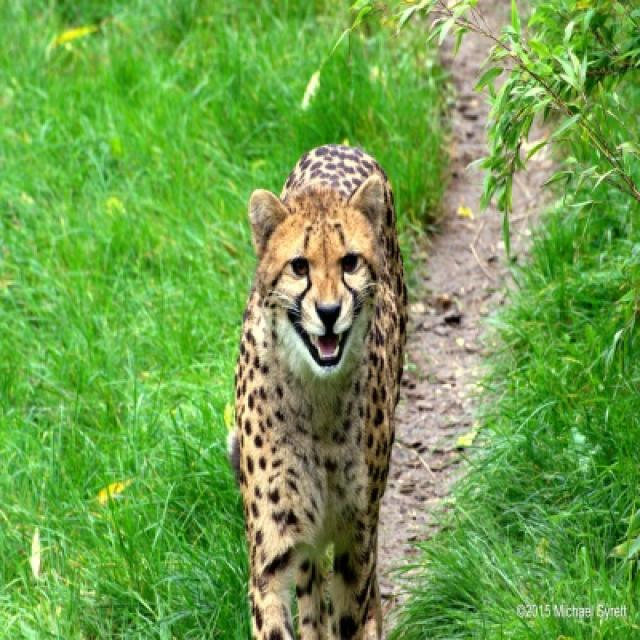Cheetah: (227, 144, 410, 638)
